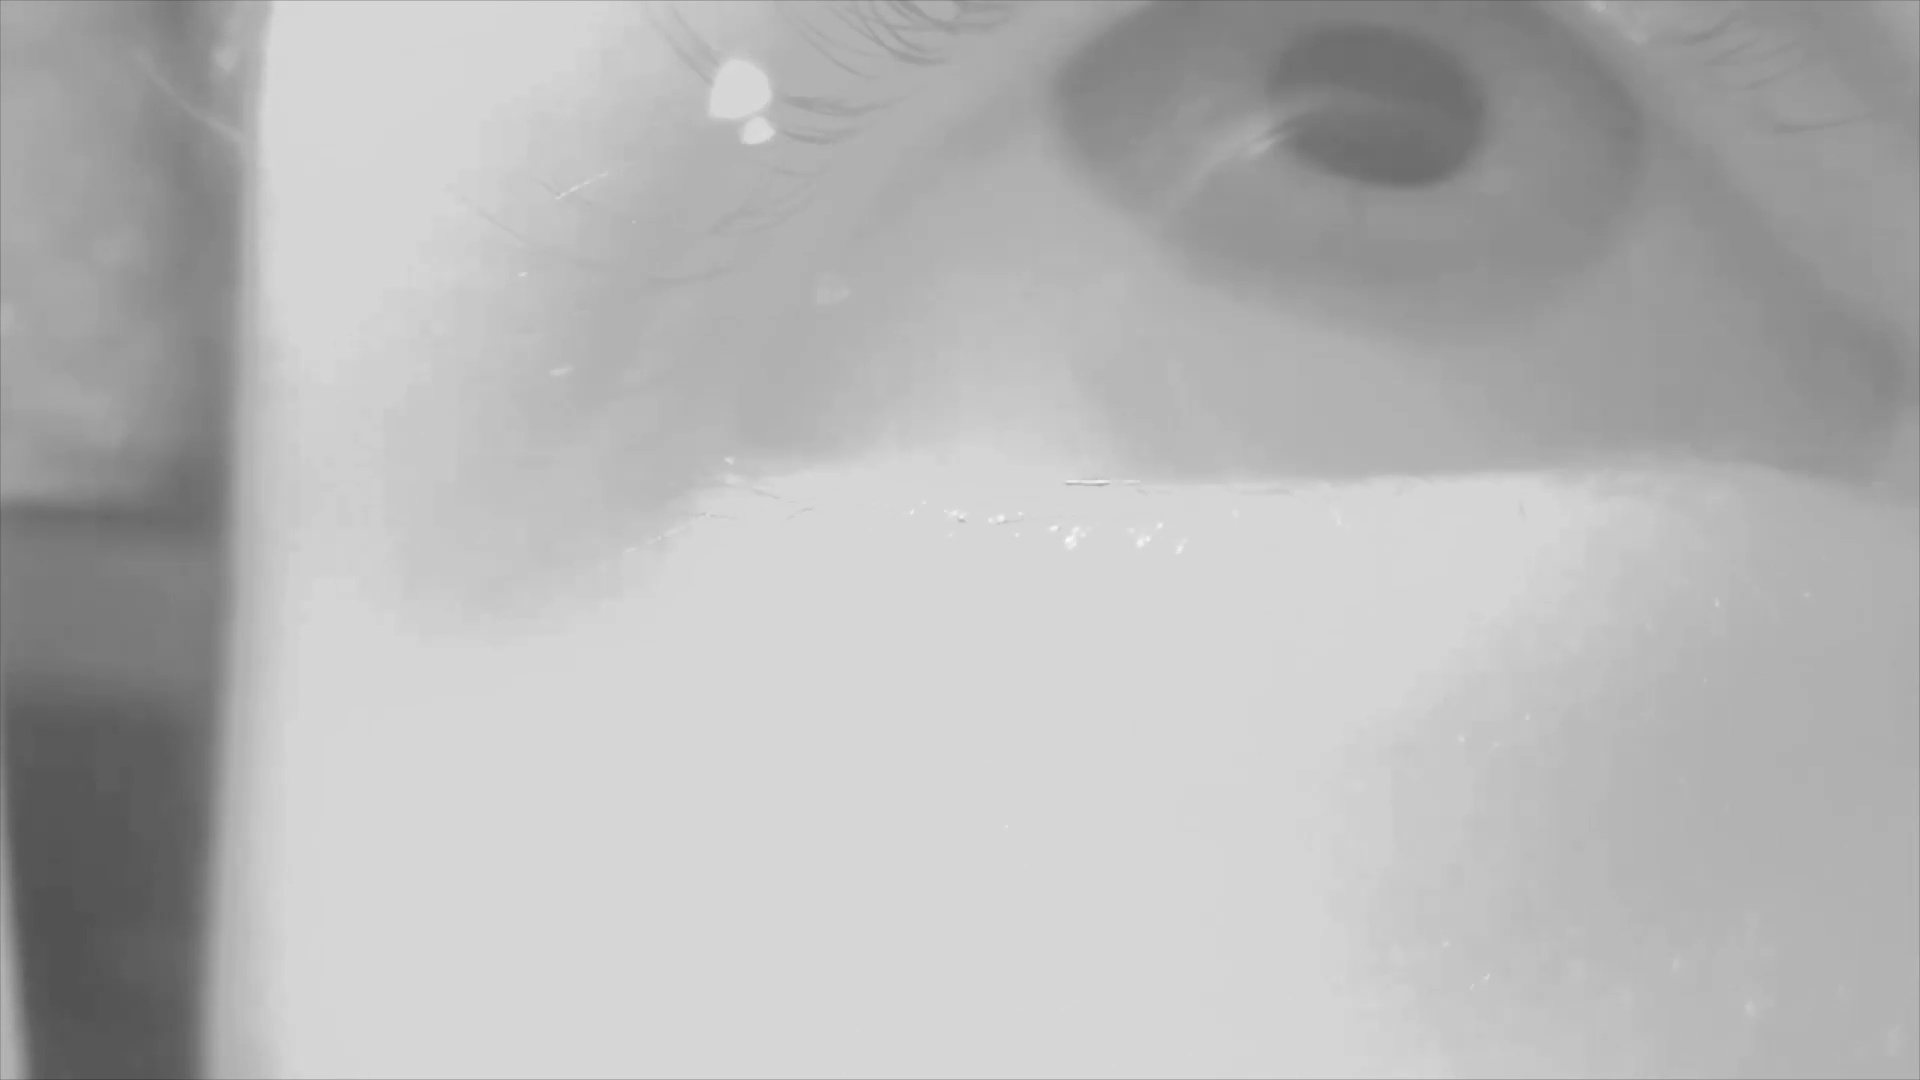pupil: (1271, 26, 1487, 194)
